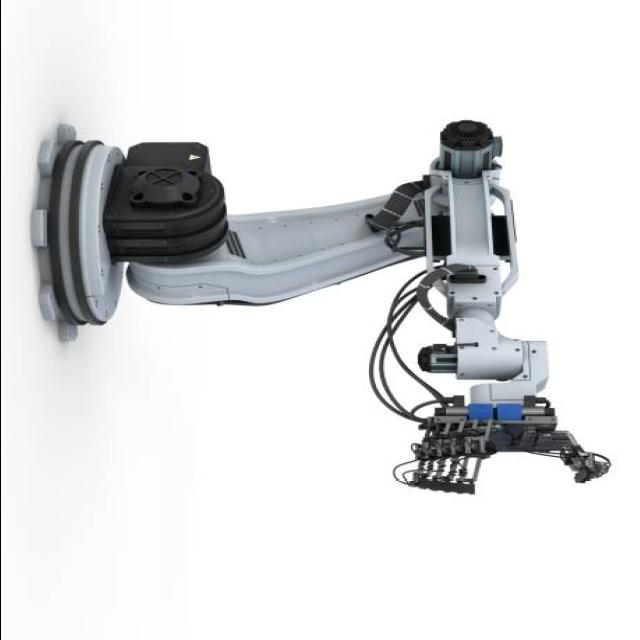Robotic-arm: (21, 111, 618, 499)
